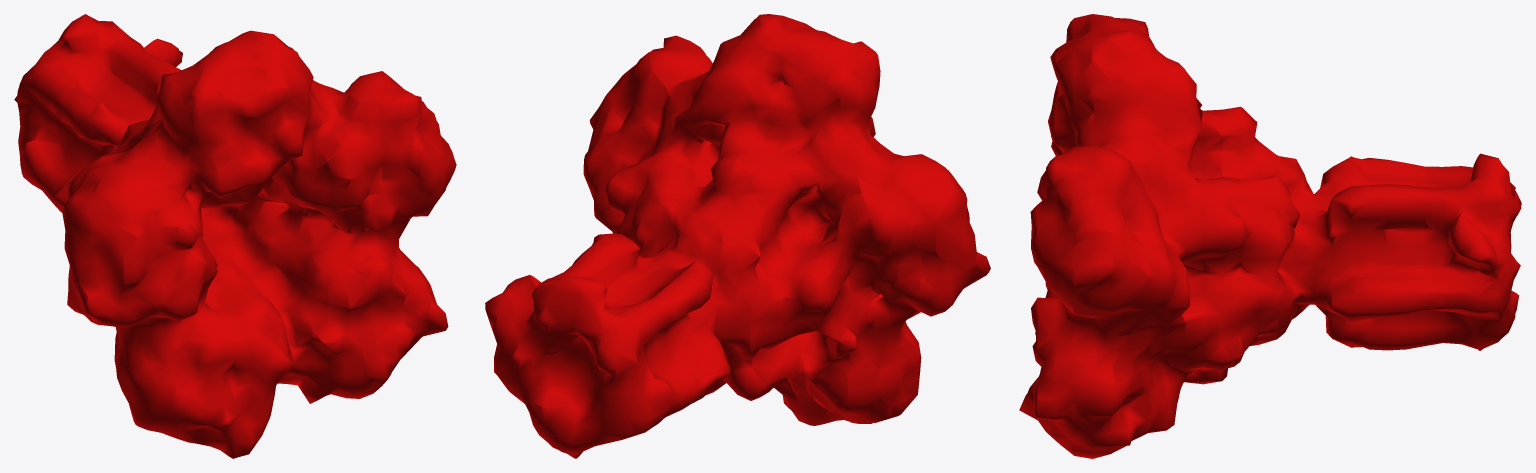
File: CoarseMS_4i0u.dae
The picture shows the model from 3 angles, left to right: view 1: azimuth 30°, elevation 25°; view 2: azimuth 150°, elevation 25°; view 3: azimuth 270°, elevation 25°; orthographic projection. The views are drawn at different scales.
Parts seen in each view (by area): view 1: CoarseMS_4i0u_Mesh; view 2: CoarseMS_4i0u_Mesh; view 3: CoarseMS_4i0u_Mesh.
Boxes of the visible parts, bbox=[...] form: CoarseMS_4i0u_Mesh: bbox=[14, 14, 456, 458]; CoarseMS_4i0u_Mesh: bbox=[485, 14, 990, 458]; CoarseMS_4i0u_Mesh: bbox=[1019, 14, 1521, 458].
Bounding box in the file's own units: 104 × 118 × 103.
